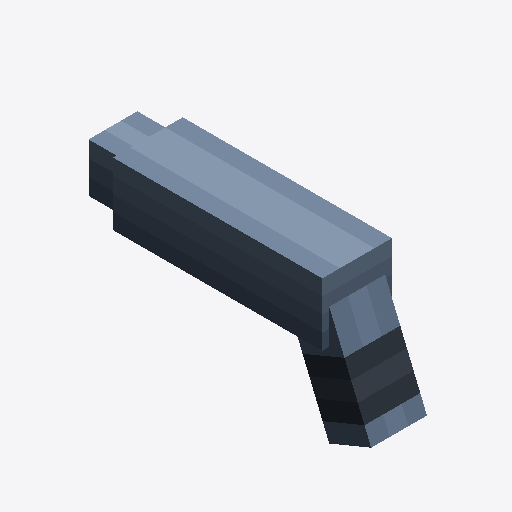
A Minecraft block model of 4 cuboids, rendered isometrically (azimuth 45°, elevation 35.3°) with the resource pack's own textures.
Visible parts, largest first — body, handle, pipe.
Part boxes in pixels (x1,y1,x2,y2): body: (113,117,391,350); handle: (298,275,426,447); pipe: (89,111,164,209).
Size of the model in its own units: 2 by 5.61 by 8.2.